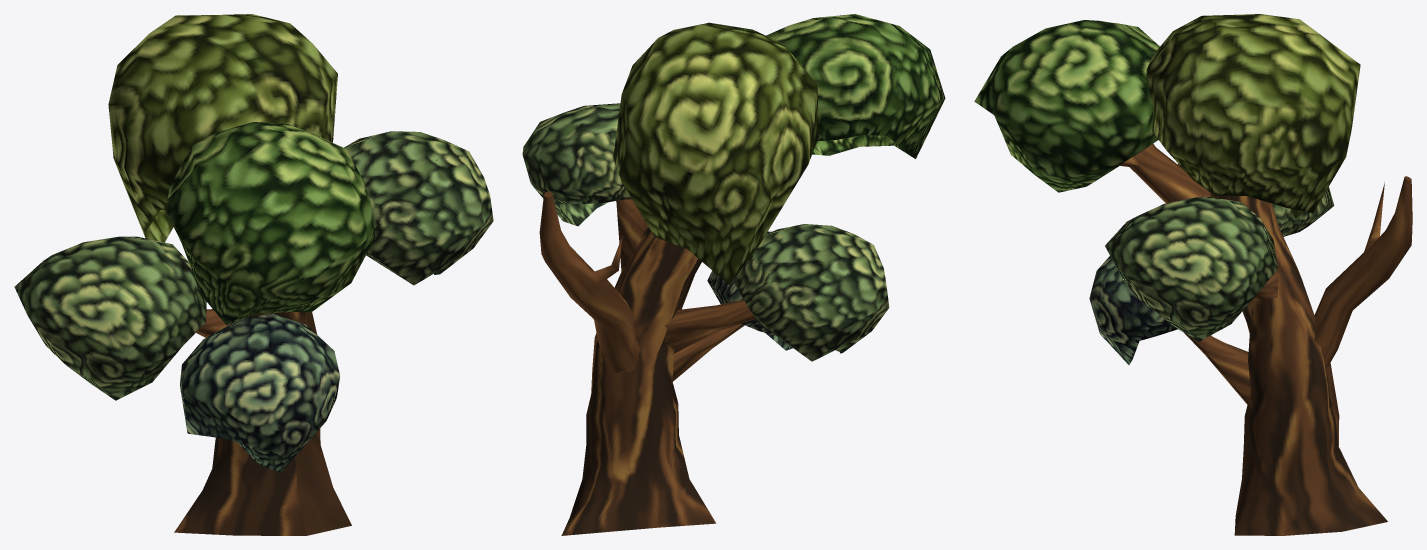
File: Ntree_2.fbx
The picture shows the model from 3 angles, left to right: view 1: azimuth 30°, elevation 25°; view 2: azimuth 150°, elevation 25°; view 3: azimuth 270°, elevation 25°; orthographic projection. The views are drawn at different scales.
Visible parts, largest first — view 1: Ntree_2; view 2: Ntree_2; view 3: Ntree_2.
Part boxes in pixels (<box>): Ntree_2: <box>14,14,493,535</box>; Ntree_2: <box>522,14,945,535</box>; Ntree_2: <box>974,14,1412,535</box>.
Size of the model in its own units: 189 by 228 by 195.
